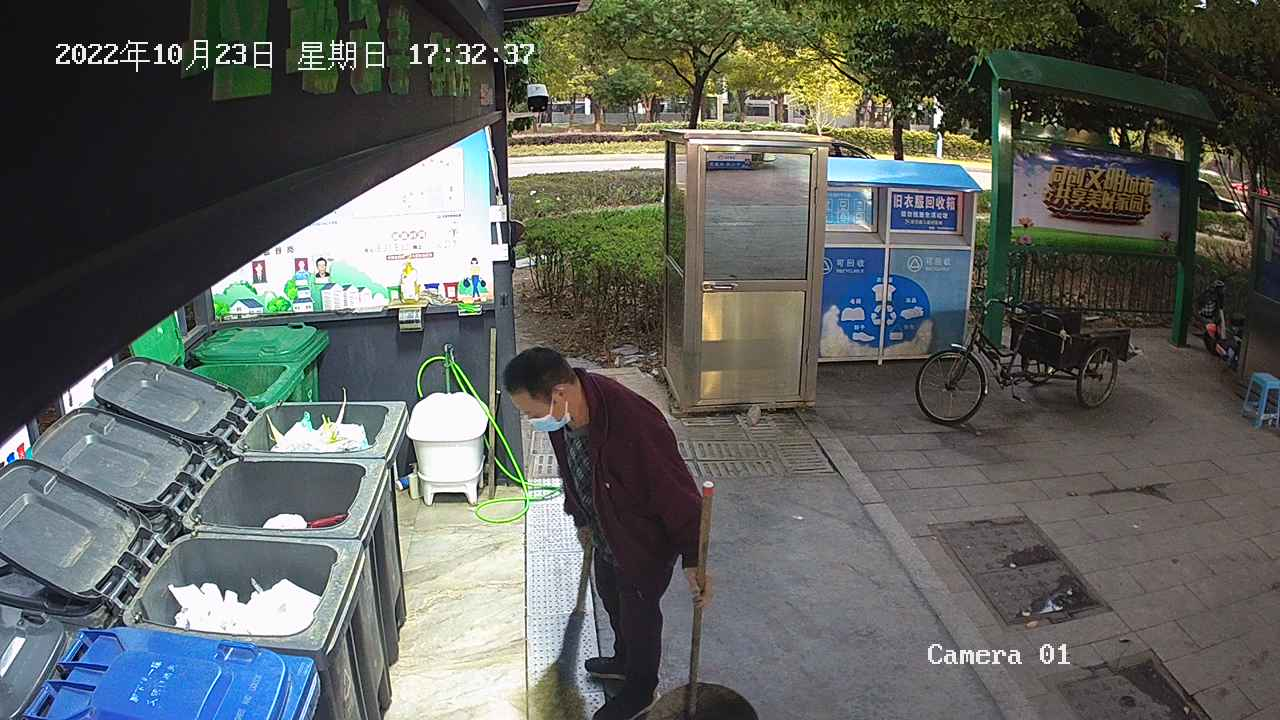person: (498, 343, 719, 720)
